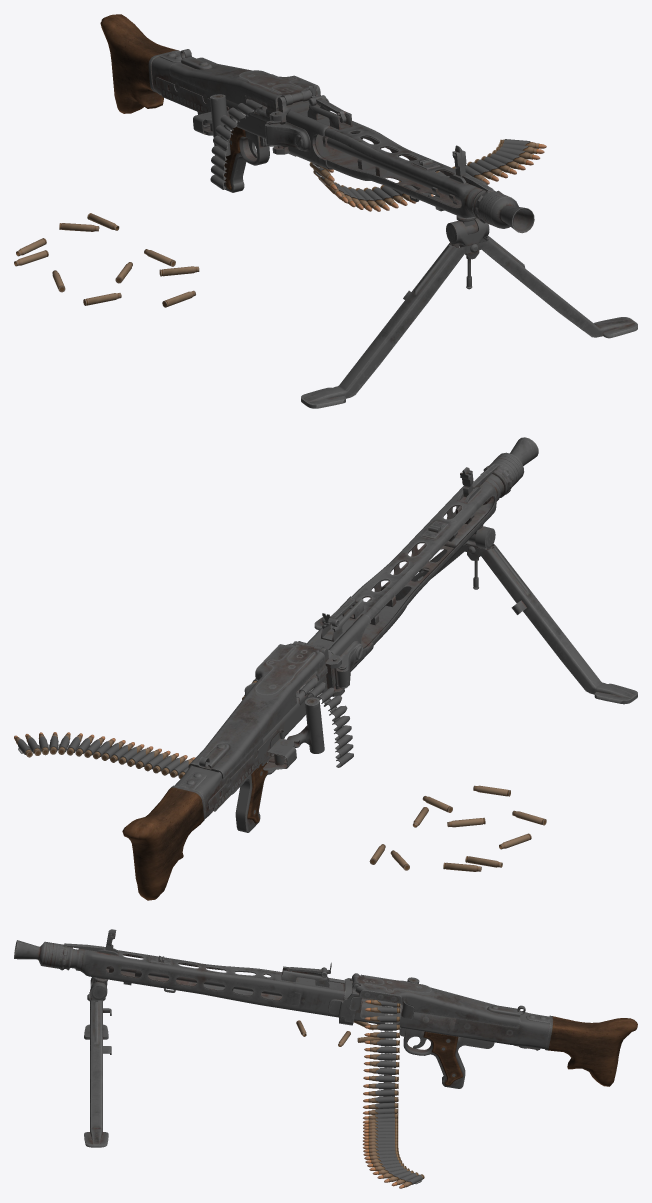
3 renders of one model, top to bottom at view 1: azimuth 30°, elevation 25°; view 2: azimuth 150°, elevation 25°; view 3: azimuth 270°, elevation 25°, orthographic. The views are drawn at different scales.
Visible parts, largest first — view 1: MG42Body_Low.003, MG42Body_Low.002, BezierCurve.003, Plane.006, BezierCurve.004; view 2: MG42Body_Low.003, MG42Body_Low.002, BezierCurve.003, Plane.006, BezierCurve.004; view 3: MG42Body_Low.003, BezierCurve.003, MG42Body_Low.002, Plane.006.
Part boxes in pixels (bbox=[...]): MG42Body_Low.003: bbox=[100, 14, 534, 233]; MG42Body_Low.002: bbox=[301, 218, 637, 408]; BezierCurve.003: bbox=[309, 139, 546, 211]; Plane.006: bbox=[14, 213, 199, 307]; BezierCurve.004: bbox=[210, 99, 263, 189]; MG42Body_Low.003: bbox=[122, 437, 538, 900]; MG42Body_Low.002: bbox=[314, 526, 637, 704]; BezierCurve.003: bbox=[14, 679, 257, 778]; Plane.006: bbox=[369, 785, 546, 871]; BezierCurve.004: bbox=[299, 677, 353, 767]; MG42Body_Low.003: bbox=[14, 929, 637, 1088]; BezierCurve.003: bbox=[362, 998, 424, 1188]; MG42Body_Low.002: bbox=[84, 977, 111, 1147]; Plane.006: bbox=[296, 1020, 384, 1046].
Bounding box in the file's own units: 0.8783 × 0.3428 × 1.22.
Materials: 2 (2 with a texture image).
